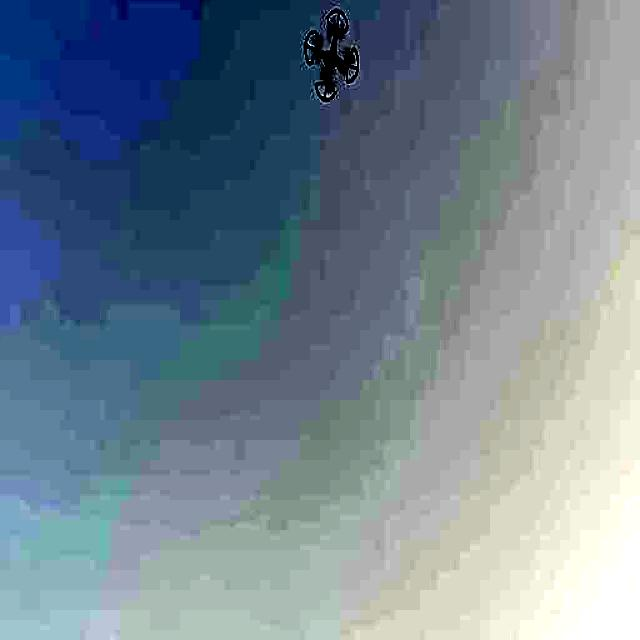bird: (290, 0, 368, 106)
